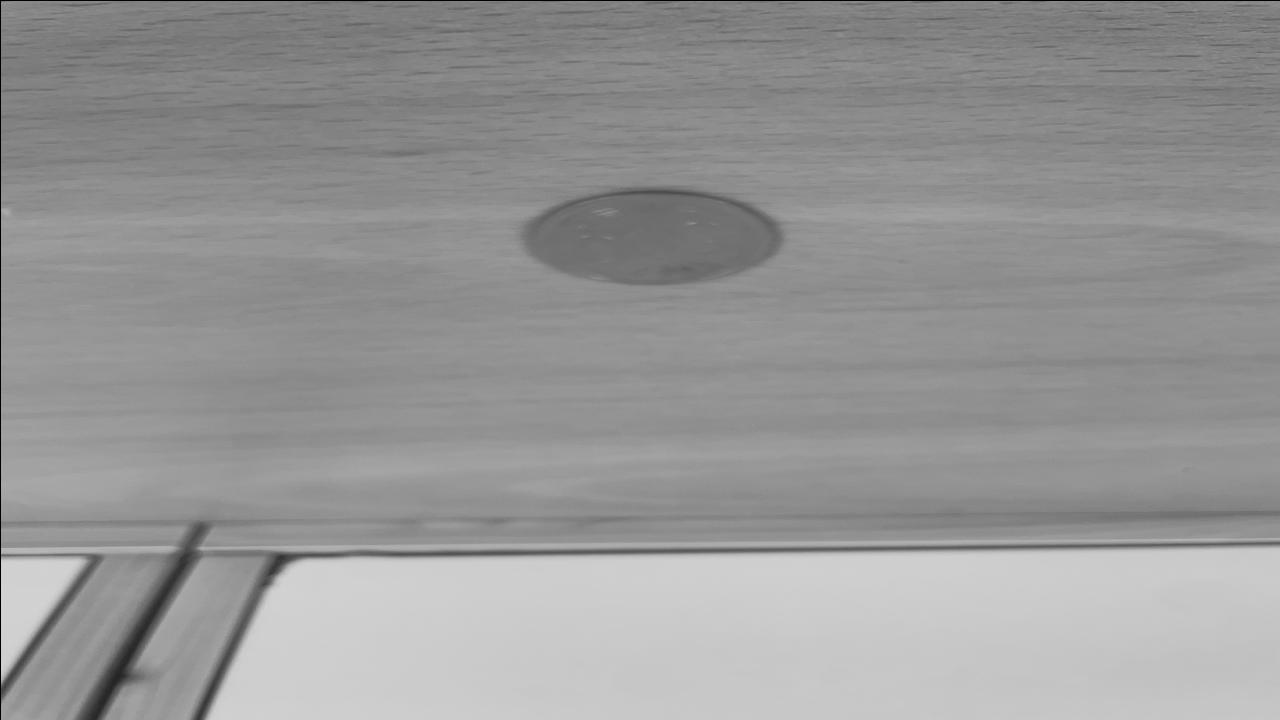coin: (524, 190, 778, 286)
